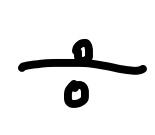div: (14, 41, 147, 109)
